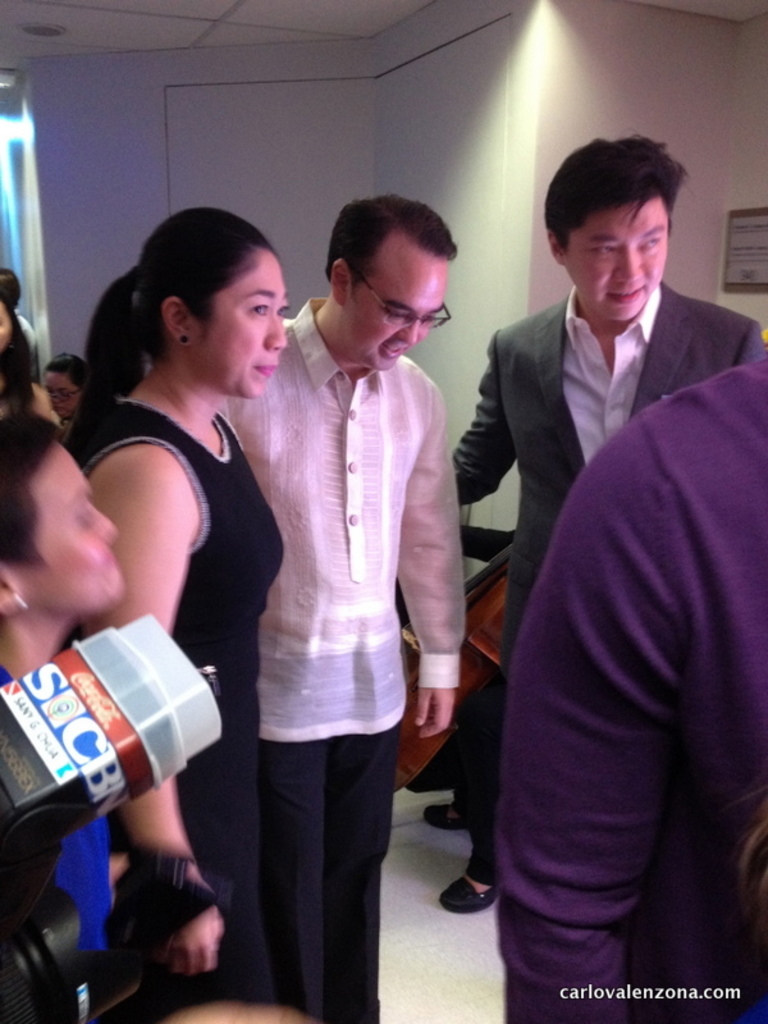Human_hand: (134, 847, 223, 989), (412, 689, 462, 742)
